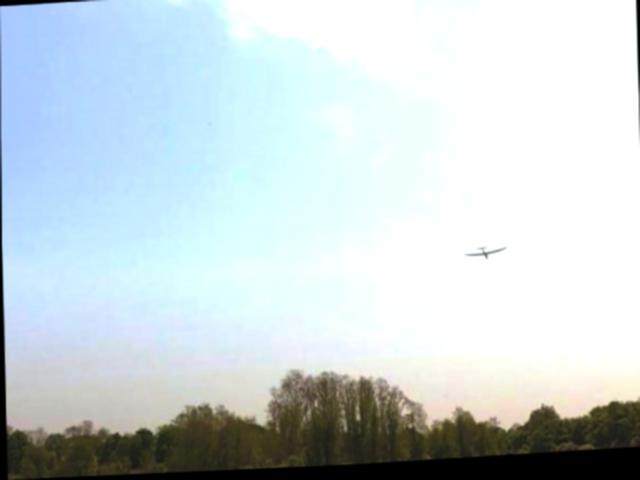iha: (456, 240, 510, 266)
